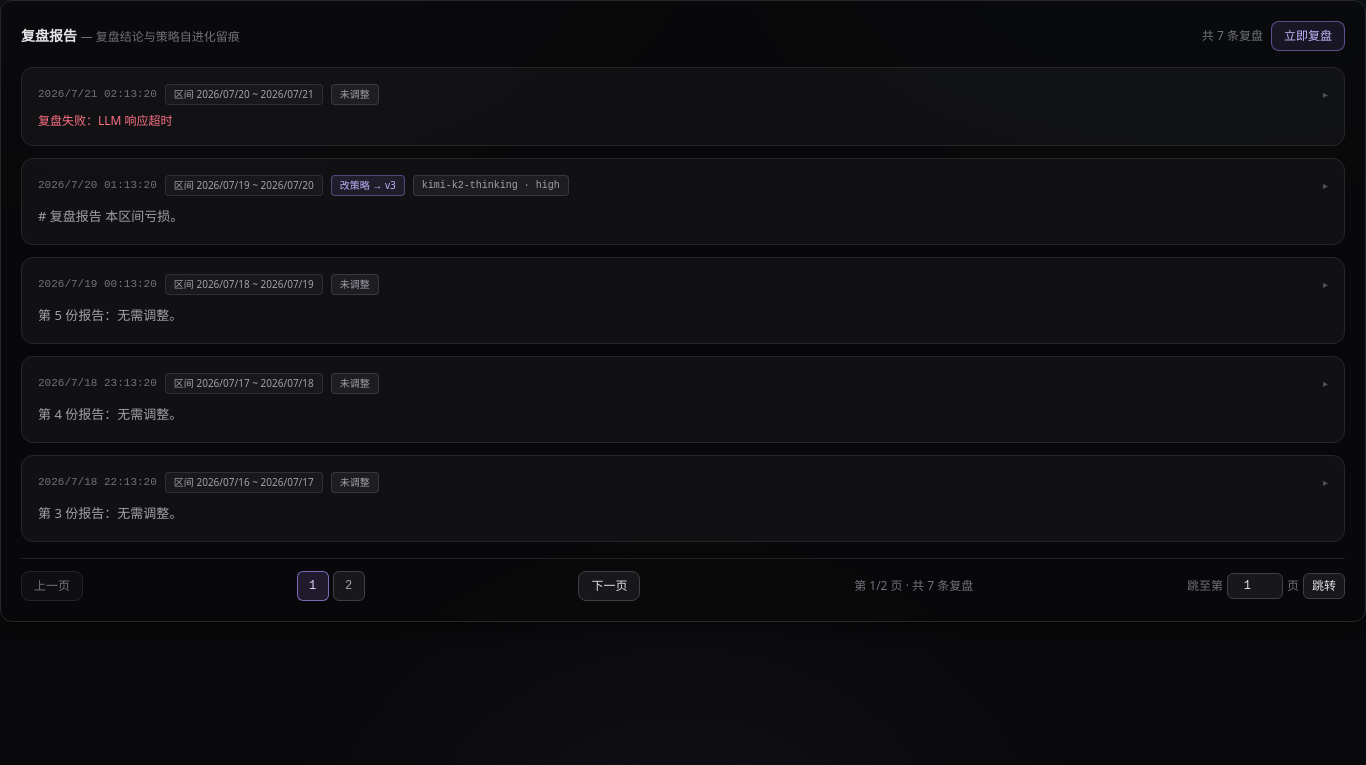
ReviewPanel(复盘报告) › 点击展开：lazy 拉取全文，展示统计表格与 reportMd 完整内容
What coordinates should you click on to do the following:
click the text "# 复盘报告 本区间亏损。"
I would click on:
 (111, 216)
Its box is [38,207,183,225].
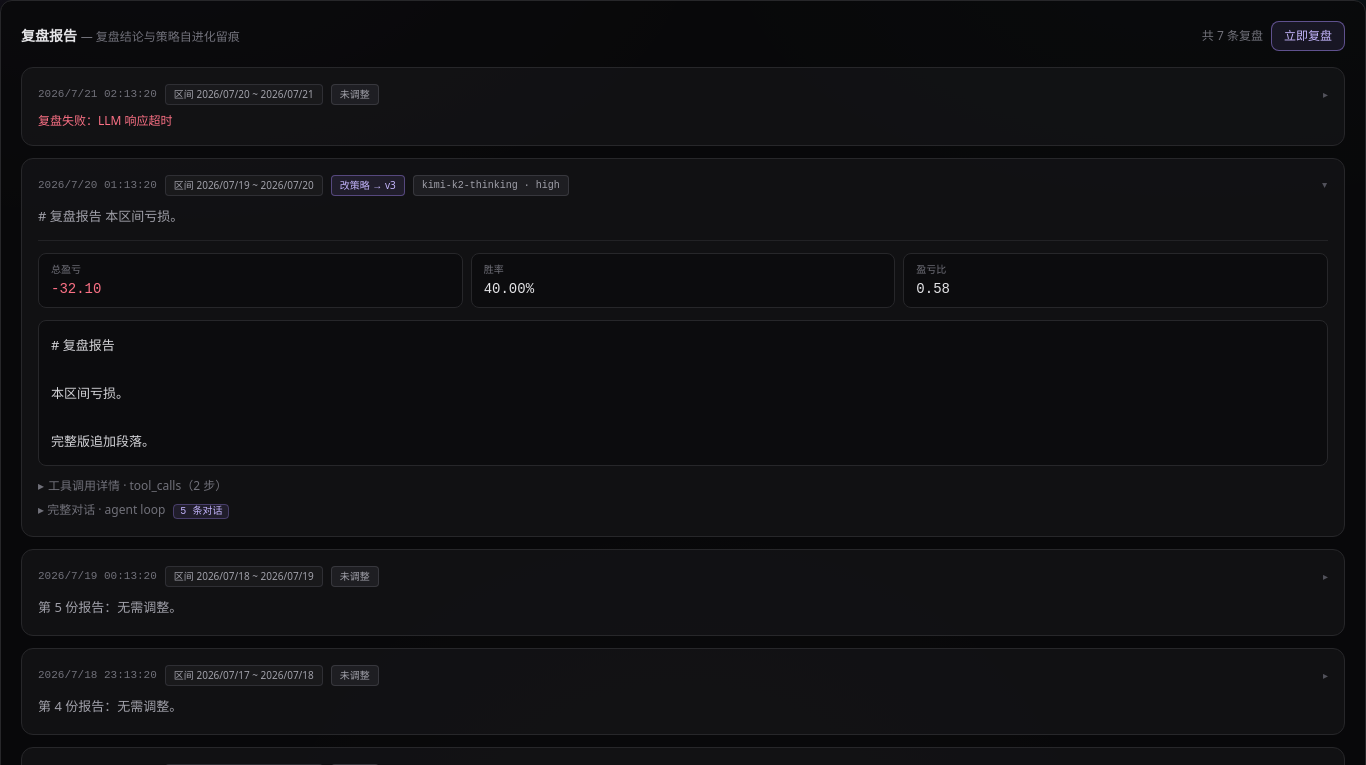
Expected: the text "总盈亏" is shown, [51,262,81,276]
Expected: the text "-32.10" is shown, [51,281,101,297]
Expected: the text "胜率" is shown, [484,262,504,276]
